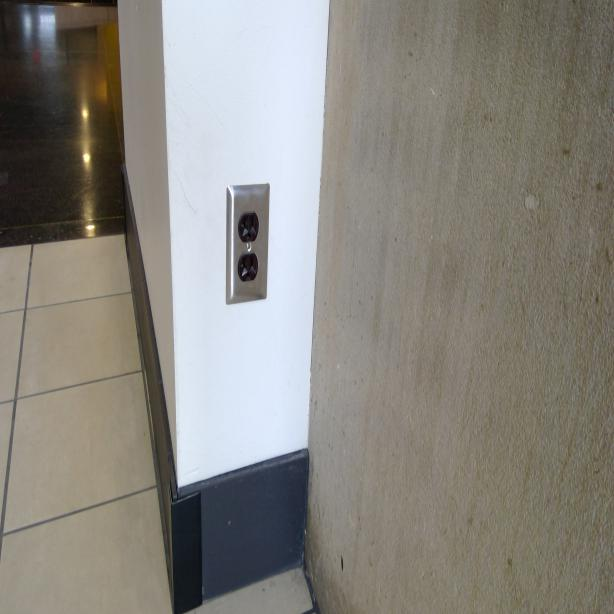typeb: (237, 252, 260, 282), (240, 210, 260, 242)
